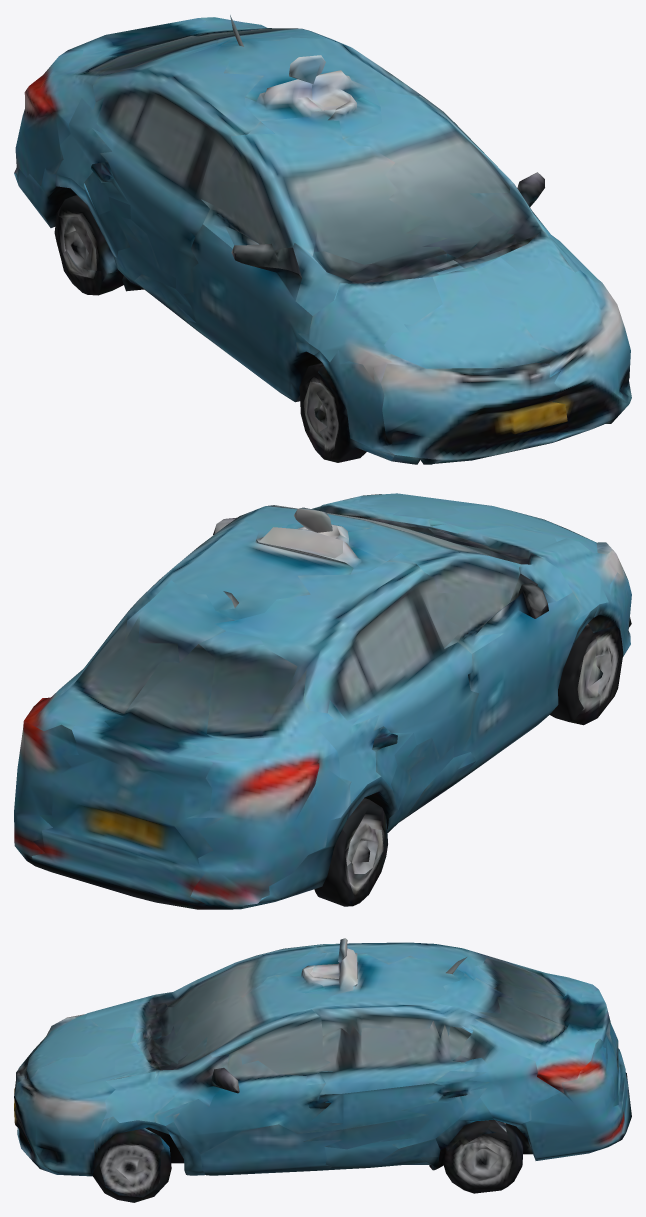
Rendered from taksi_lod2.glb.
The picture shows the model from 3 angles, top to bottom: view 1: azimuth 30°, elevation 25°; view 2: azimuth 150°, elevation 25°; view 3: azimuth 270°, elevation 25°; orthographic projection. The views are drawn at different scales.
Parts seen in each view (by area): view 1: tripo_node_b0afe58c; view 2: tripo_node_b0afe58c; view 3: tripo_node_b0afe58c.
Part boxes in pixels (left/top/right/bottom): tripo_node_b0afe58c: left=14, top=15, right=631, bottom=464; tripo_node_b0afe58c: left=14, top=493, right=631, bottom=909; tripo_node_b0afe58c: left=14, top=938, right=631, bottom=1202.
Size of the model in its own units: 44.38 by 37.23 by 99.98.
Materials: 1 (1 with a texture image).
